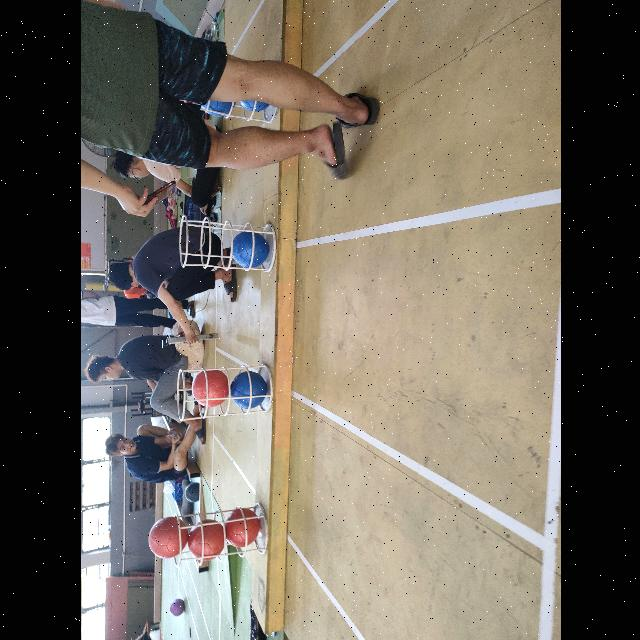B: (230, 233, 270, 270), (229, 372, 267, 408)
R: (146, 514, 188, 558), (223, 508, 260, 548), (192, 368, 228, 408), (188, 520, 222, 562)
